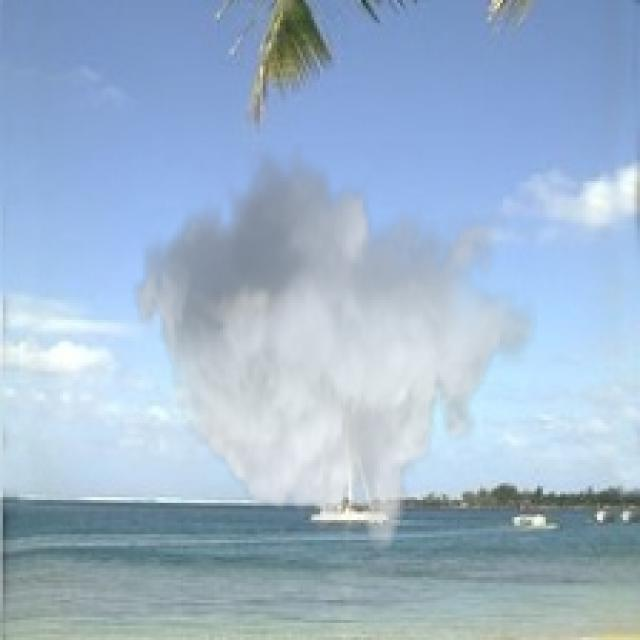Smoke: (132, 142, 537, 558)
